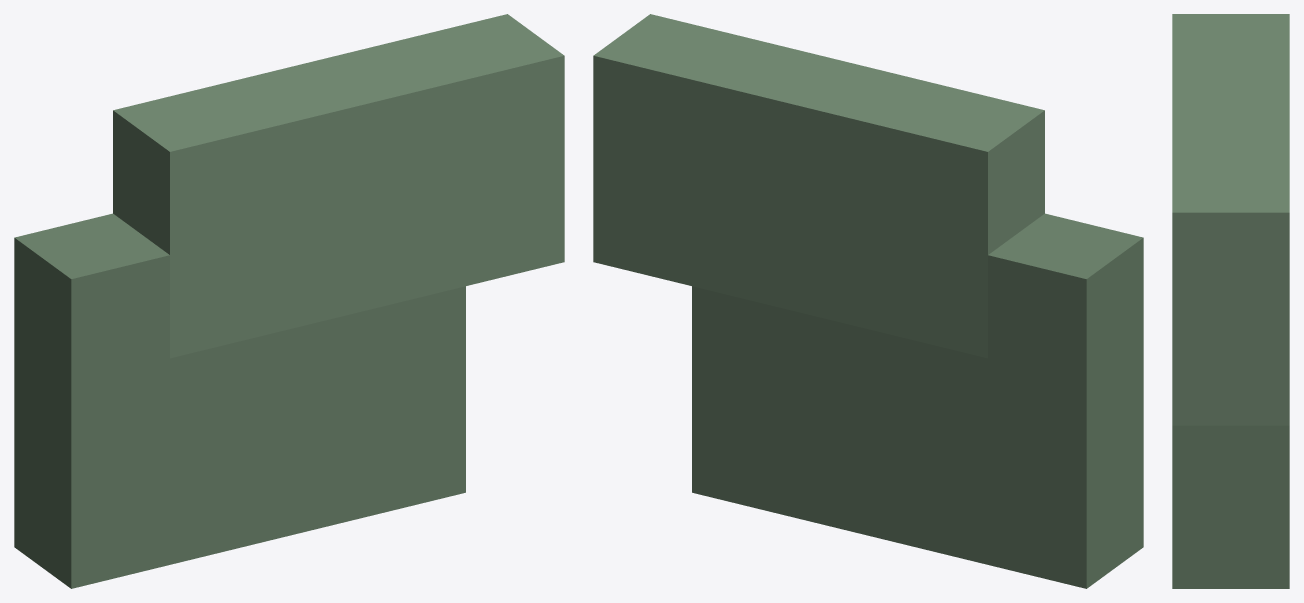
File: moho_01.glb
3 views of the same model, side by side, from view 1: azimuth 30°, elevation 25°; view 2: azimuth 150°, elevation 25°; view 3: azimuth 270°, elevation 25° (orthographic). The views are drawn at different scales.
Parts seen in each view (by area): view 1: moho; view 2: moho; view 3: moho.
Part boxes in pixels (bbox=[...]): moho: bbox=[14, 14, 564, 588]; moho: bbox=[593, 14, 1143, 588]; moho: bbox=[1172, 14, 1289, 588].
Size of the model in its own units: 0.625 by 0.5 by 0.125.
